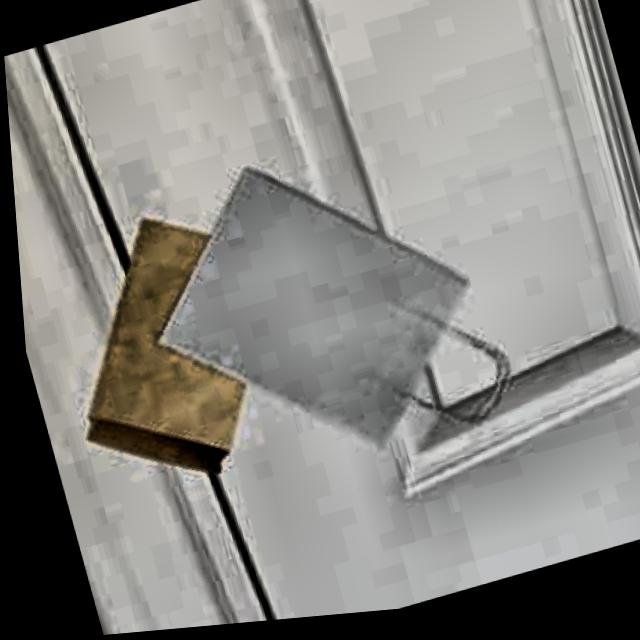Paper-bag: (122, 119, 539, 535), (41, 182, 308, 518)
